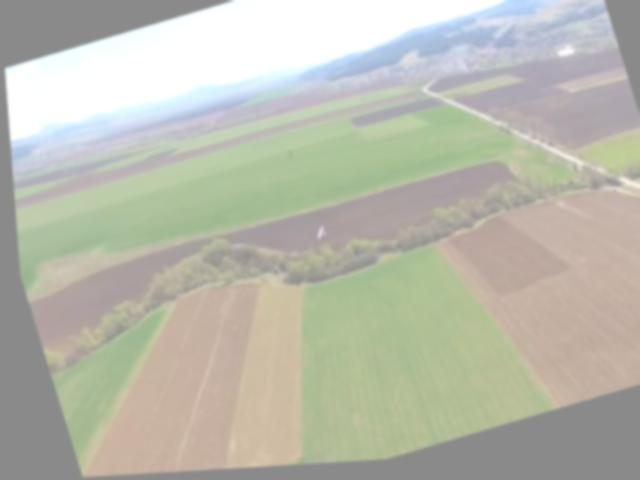uav: (305, 220, 328, 250)
